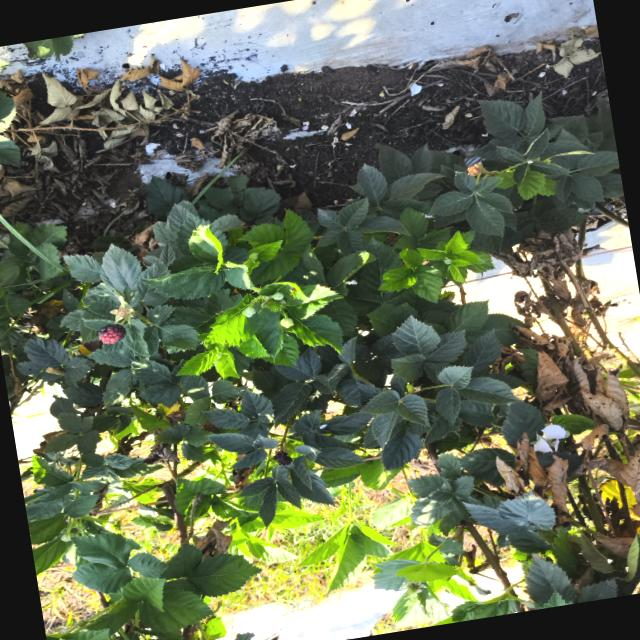boton: (280, 317, 294, 328), (244, 306, 256, 318), (272, 292, 283, 300)
marron: (99, 324, 126, 344)
